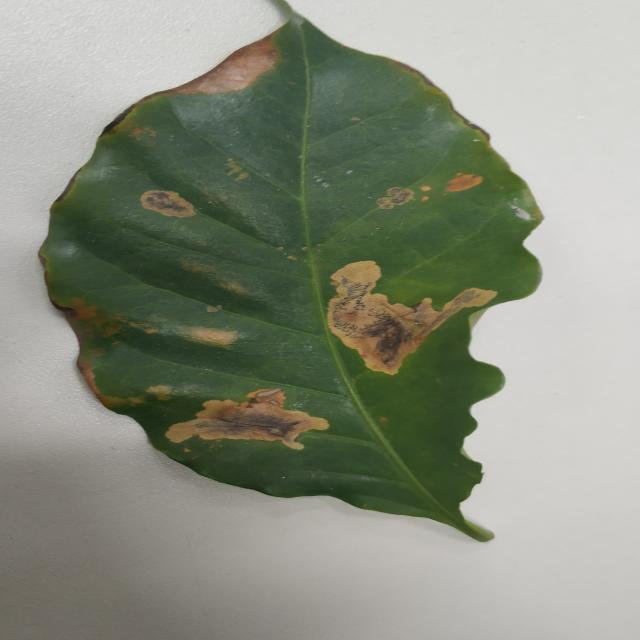Plaga-Minador: (48, 12, 546, 544)
